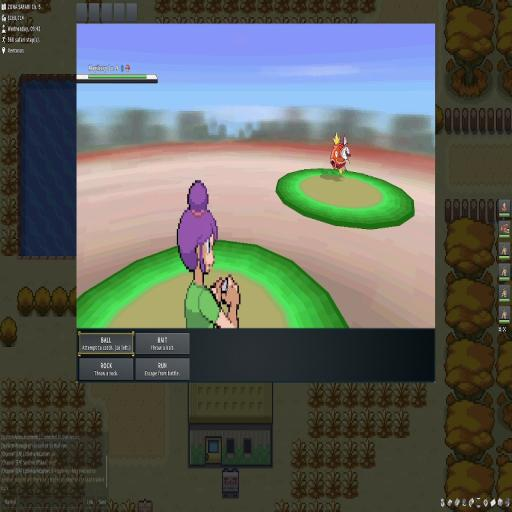FIGHTBAR: (78, 331, 191, 381)
MAGIKARP: (327, 132, 351, 179)
